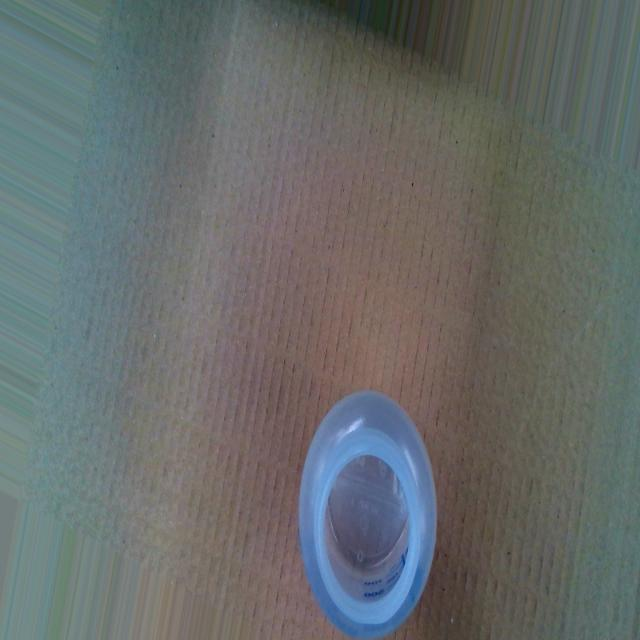bottle: (295, 385, 441, 640)
